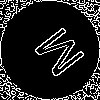M: (25, 25, 87, 86)
